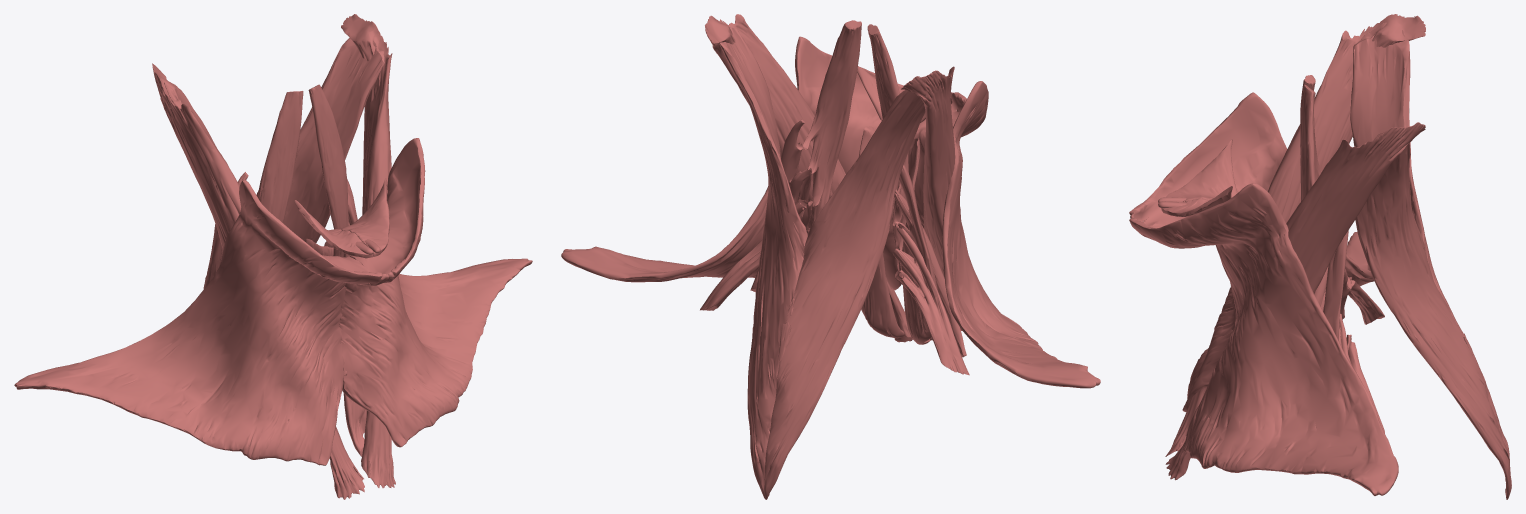
Rendered from muscular-neck.glb.
The picture shows the model from 3 angles, left to right: view 1: azimuth 30°, elevation 25°; view 2: azimuth 150°, elevation 25°; view 3: azimuth 270°, elevation 25°; orthographic projection. The views are drawn at different scales.
Visible parts, largest first — view 1: bp3d_FMA45739_FJ1587, bp3d_FMA45740_FJ1558, bp3d_FMA22729_FJ1545M, bp3d_FMA13409_FJ1573, bp3d_FMA13408_FJ1595, bp3d_FMA46309_FJ1582, bp3d_FMA46310_FJ1561, bp3d_FMA46322_FJ1562, bp3d_FMA46321_FJ1583, bp3d_FMA22728_FJ1545, bp3d_FMA13347_FJ1574; view 2: bp3d_FMA22728_FJ1545, bp3d_FMA22729_FJ1545M, bp3d_FMA45739_FJ1587, bp3d_FMA45740_FJ1558, bp3d_FMA13409_FJ1573, bp3d_FMA46310_FJ1561, bp3d_FMA13408_FJ1595, bp3d_FMA13388_FJ1594, bp3d_FMA46309_FJ1582, bp3d_FMA13347_FJ1574, bp3d_FMA13390_FJ1593, bp3d_FMA13346_FJ1596 (+3 smaller); view 3: bp3d_FMA45740_FJ1558, bp3d_FMA22729_FJ1545M, bp3d_FMA45739_FJ1587, bp3d_FMA13409_FJ1573, bp3d_FMA13408_FJ1595, bp3d_FMA22728_FJ1545, bp3d_FMA46321_FJ1583, bp3d_FMA46310_FJ1561, bp3d_FMA13391_FJ1571, bp3d_FMA46322_FJ1562, bp3d_FMA13388_FJ1594, bp3d_FMA13389_FJ1572.
Boxes of the visible parts, <box> form: bp3d_FMA45739_FJ1587: <box>14,180,388,465</box>; bp3d_FMA45740_FJ1558: <box>339,138,532,447</box>; bp3d_FMA22729_FJ1545M: <box>283,33,384,243</box>; bp3d_FMA13409_FJ1573: <box>341,14,395,488</box>; bp3d_FMA13408_FJ1595: <box>152,63,364,499</box>; bp3d_FMA46309_FJ1582: <box>256,91,303,222</box>; bp3d_FMA46310_FJ1561: <box>308,84,348,257</box>; bp3d_FMA46322_FJ1562: <box>341,178,389,256</box>; bp3d_FMA46321_FJ1583: <box>294,200,373,258</box>; bp3d_FMA22728_FJ1545: <box>164,81,228,288</box>; bp3d_FMA13347_FJ1574: <box>343,253,366,456</box>; bp3d_FMA22728_FJ1545: <box>764,90,925,499</box>; bp3d_FMA22729_FJ1545M: <box>716,20,807,499</box>; bp3d_FMA45739_FJ1587: <box>898,81,1100,388</box>; bp3d_FMA45740_FJ1558: <box>561,36,925,290</box>; bp3d_FMA13409_FJ1573: <box>705,14,912,342</box>; bp3d_FMA46310_FJ1561: <box>803,20,861,225</box>; bp3d_FMA13408_FJ1595: <box>722,20,955,340</box>; bp3d_FMA13388_FJ1594: <box>892,224,969,375</box>; bp3d_FMA46309_FJ1582: <box>867,24,908,250</box>; bp3d_FMA13347_FJ1574: <box>859,126,904,338</box>; bp3d_FMA13390_FJ1593: <box>894,164,937,297</box>; bp3d_FMA13346_FJ1596: <box>900,138,931,344</box>; bp3d_FMA45740_FJ1558: <box>1129,183,1398,495</box>; bp3d_FMA22729_FJ1545M: <box>1355,136,1511,499</box>; bp3d_FMA45739_FJ1587: <box>1129,92,1373,411</box>; bp3d_FMA13409_FJ1573: <box>1165,122,1425,480</box>; bp3d_FMA13408_FJ1595: <box>1165,14,1425,456</box>; bp3d_FMA22728_FJ1545: <box>1350,22,1511,497</box>; bp3d_FMA46321_FJ1583: <box>1166,139,1237,202</box>; bp3d_FMA46310_FJ1561: <box>1300,84,1325,291</box>; bp3d_FMA13391_FJ1571: <box>1323,230,1351,352</box>; bp3d_FMA46322_FJ1562: <box>1161,186,1232,216</box>; bp3d_FMA13388_FJ1594: <box>1343,269,1384,324</box>; bp3d_FMA13389_FJ1572: <box>1339,313,1384,433</box>.
Size of the model in its own units: 0.2929 by 0.2178 by 0.1756.
